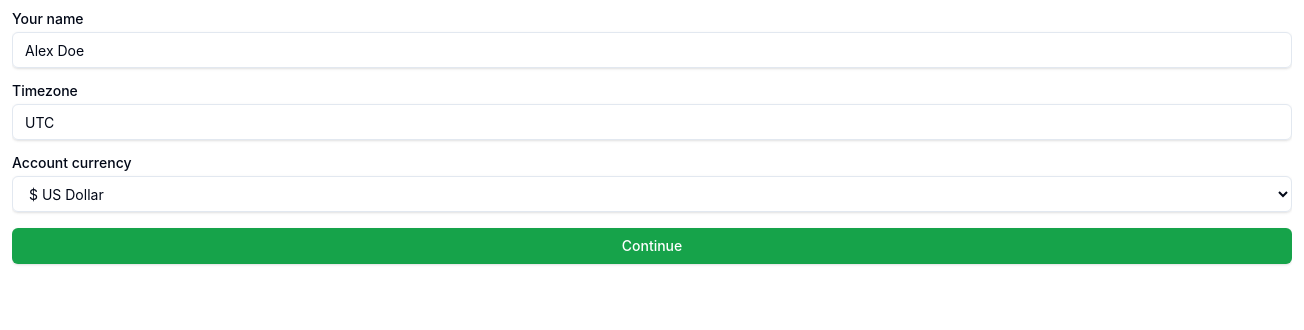
it: ProfileStep error branches › surfaces a 400 { type, message, fields } API error inline and does NOT advance
# Defaults are valid (name pre-filled, timezone resolved, currency[0]).
Click the button "Continue" at (652, 246), box top-left (12, 228), bottom-right (1292, 264)
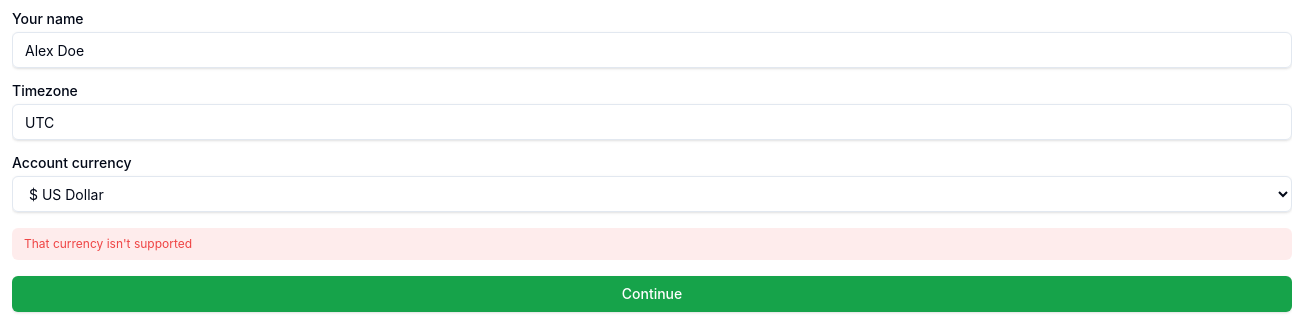
Check: the text "That currency isn't supported" is shown, box top-left (12, 228), bottom-right (1292, 260)
